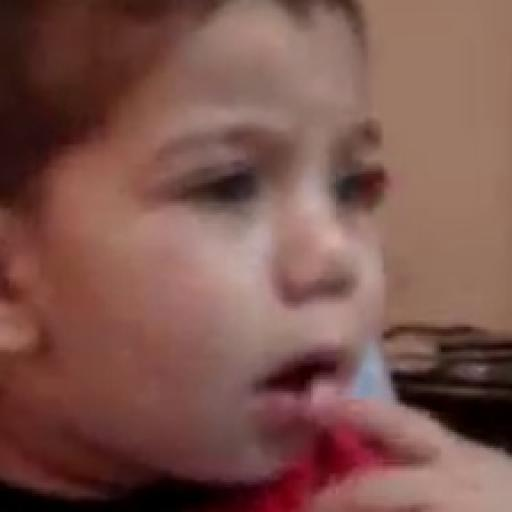Autism: (27, 61, 413, 498)
